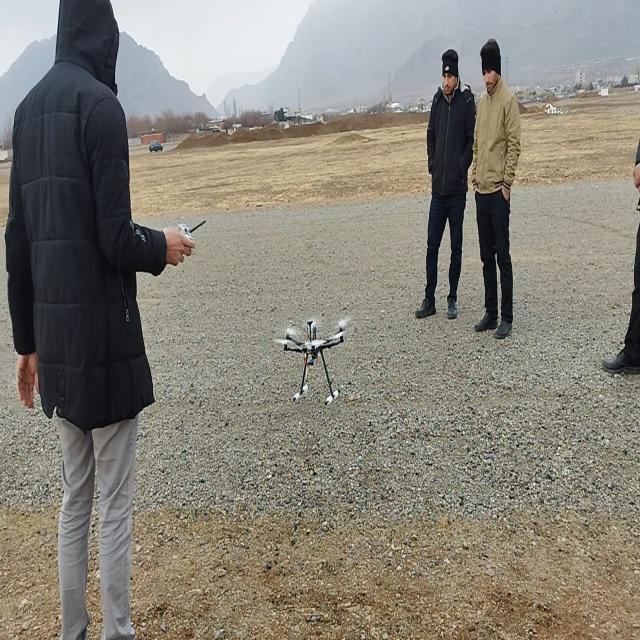drone: (272, 310, 352, 406)
